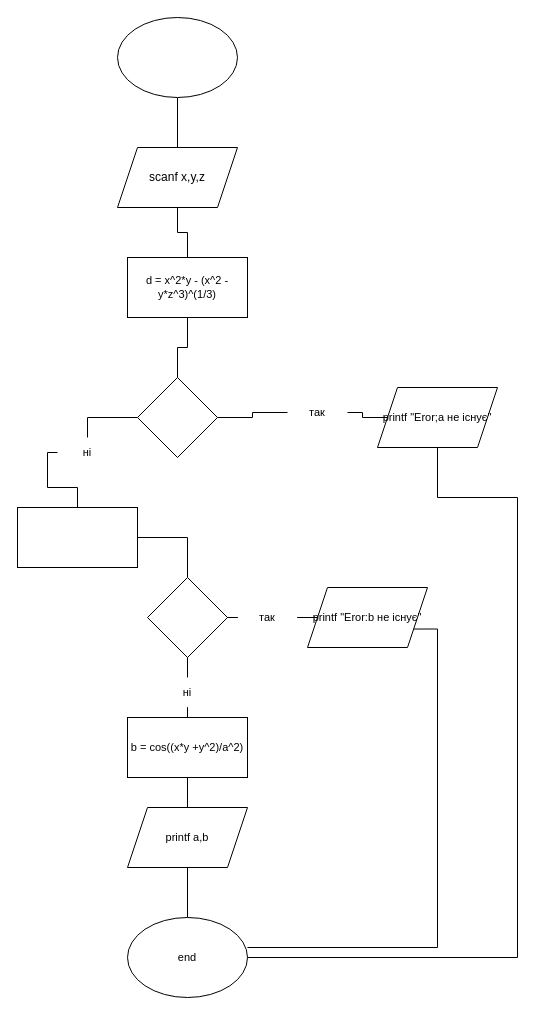
Some shapes in this 536 by 1015 pixel diagram are drawn without their labels. Each missing label, with the box of its shape:
a = (x+ y-z) / d: (16, 506, 138, 568)
a == 0: (146, 576, 228, 658)
d == 0: (136, 376, 218, 458)
start: (116, 16, 238, 98)
